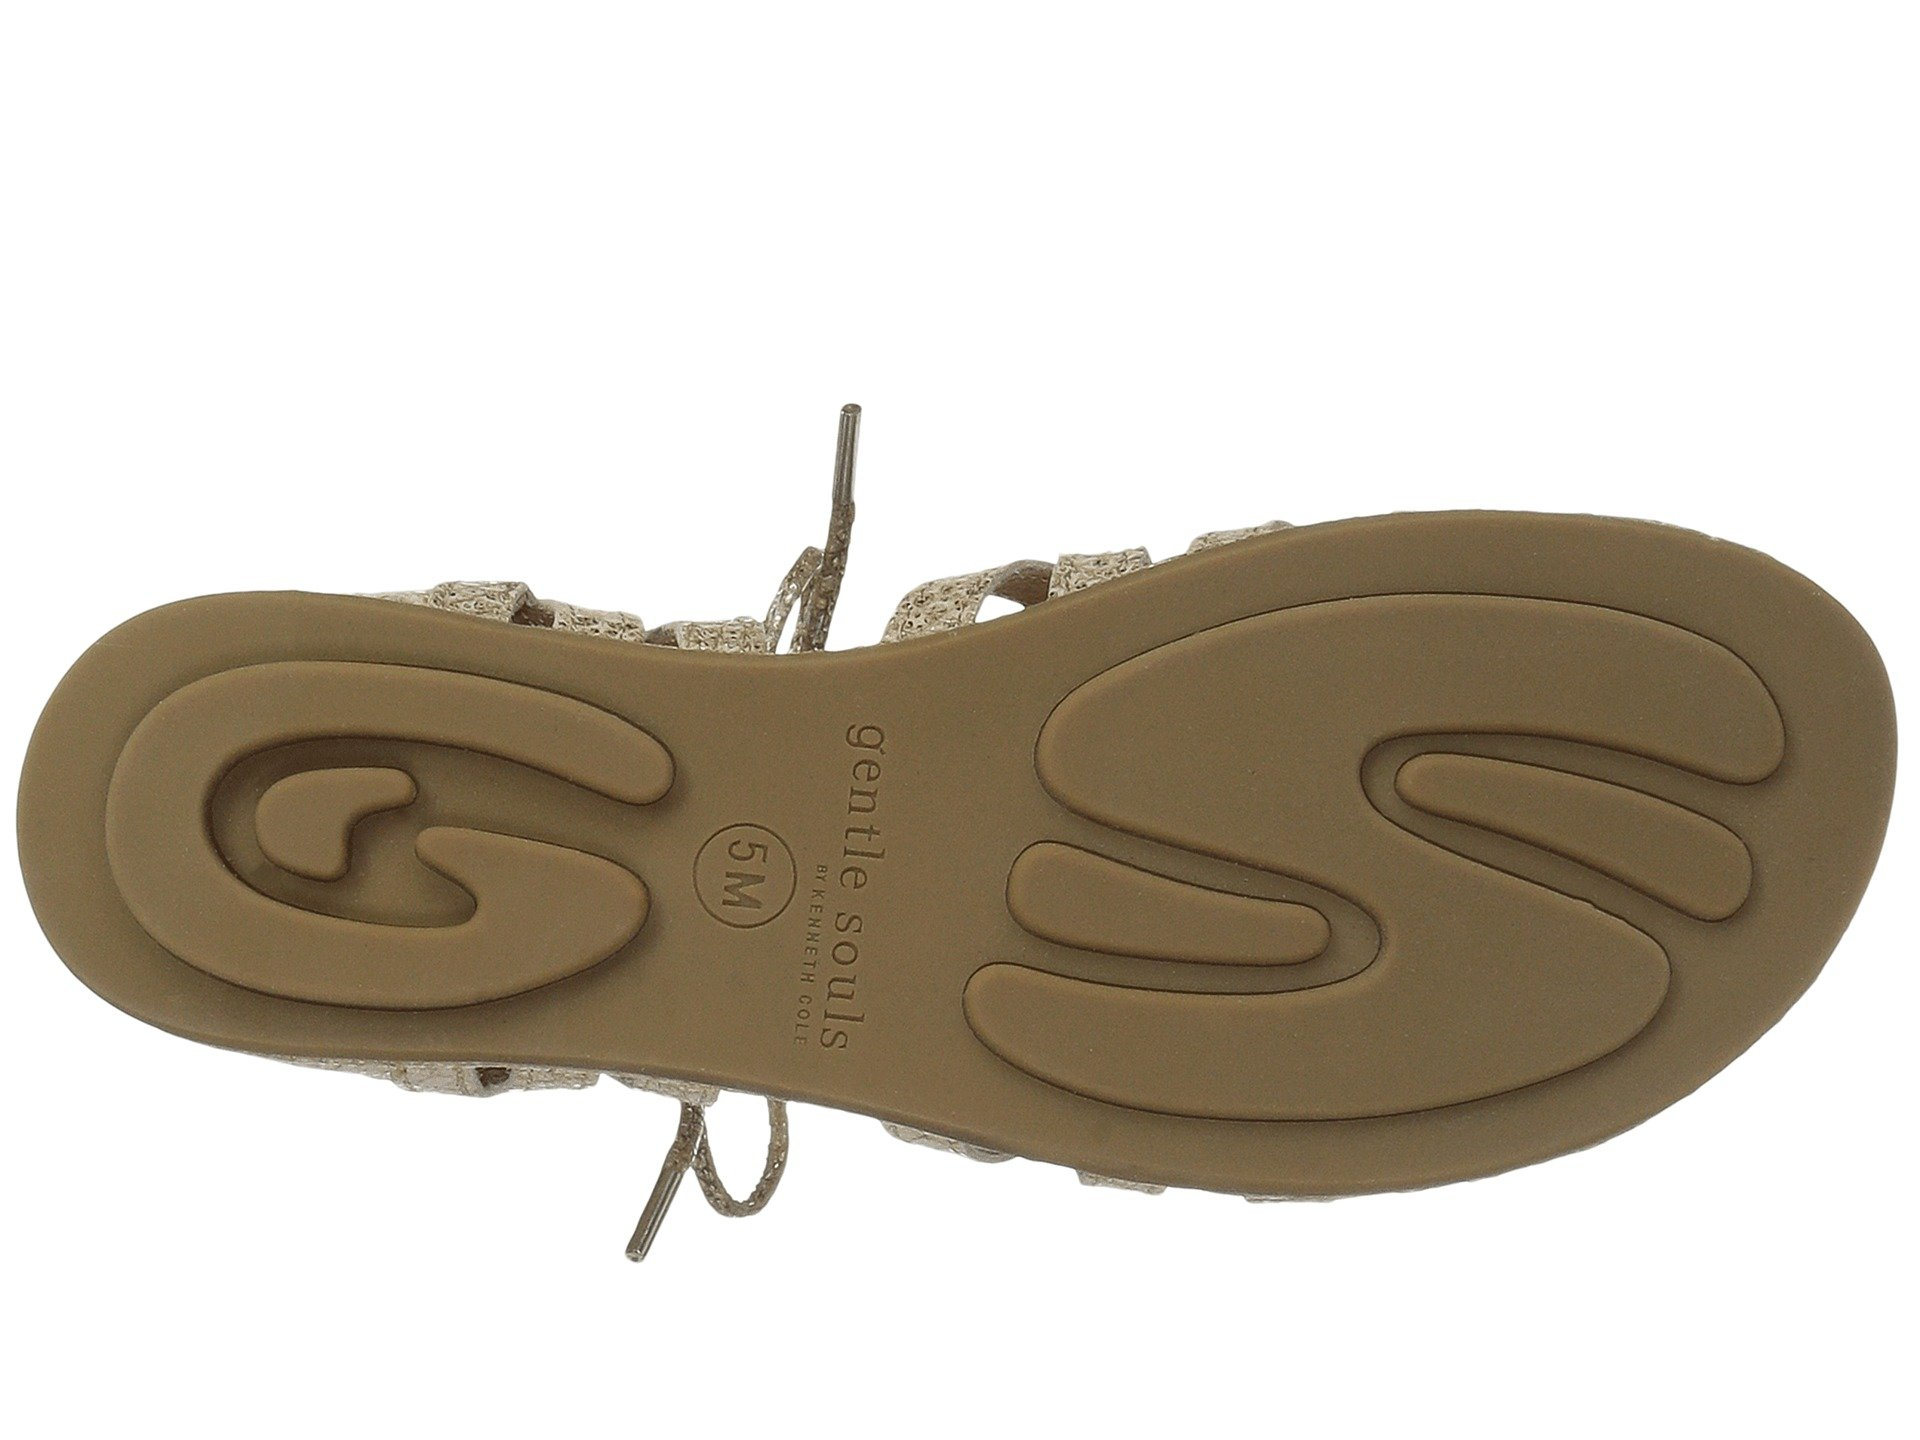chevron: (91, 523, 686, 1124)
circle: (655, 684, 946, 1066)
quad: (974, 461, 1822, 1237)
text: (974, 461, 1822, 1237), (91, 523, 686, 1124), (655, 684, 946, 1066)
